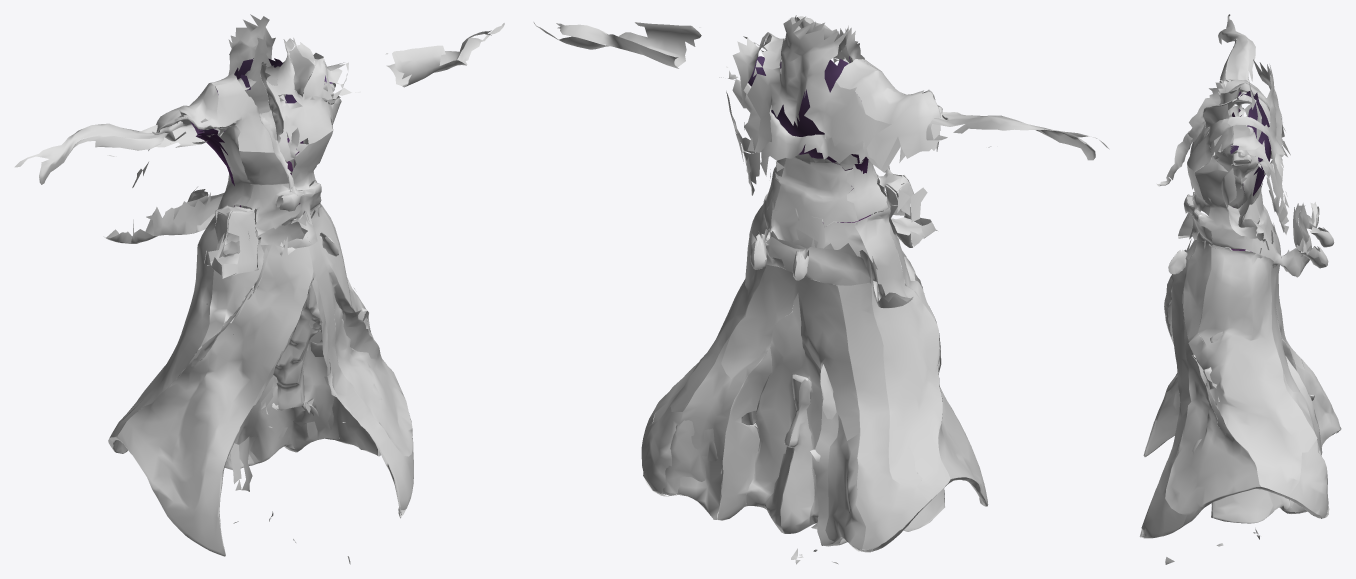
Rendered from mage_f_robe.glb.
3 renders of one model, left to right at view 1: azimuth 30°, elevation 25°; view 2: azimuth 150°, elevation 25°; view 3: azimuth 270°, elevation 25°, orthographic. The views are drawn at different scales.
Parts seen in each view (by area): view 1: item; view 2: item; view 3: item.
Part boxes in pixels (<box>): item: <box>14,14,504,564</box>; item: <box>533,15,1109,564</box>; item: <box>1139,14,1341,564</box>.
Bounding box in the file's own units: 0.9438 × 0.9239 × 0.3504.
